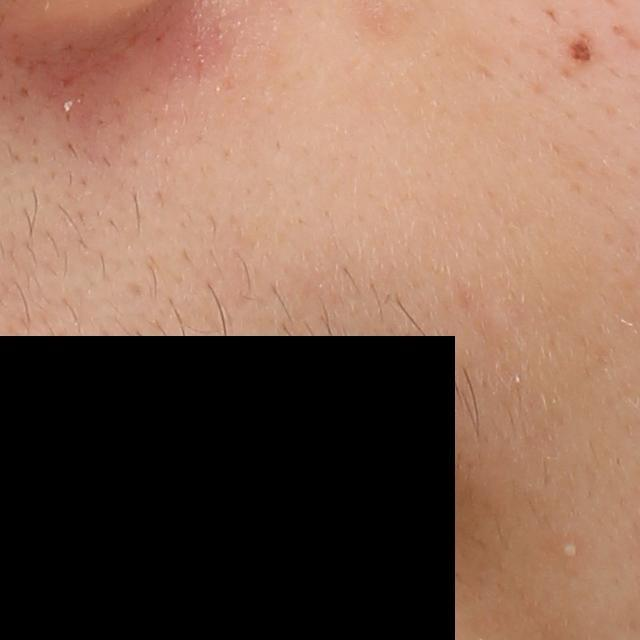nevus: (568, 37, 594, 63)
pustule: (558, 540, 582, 565)
